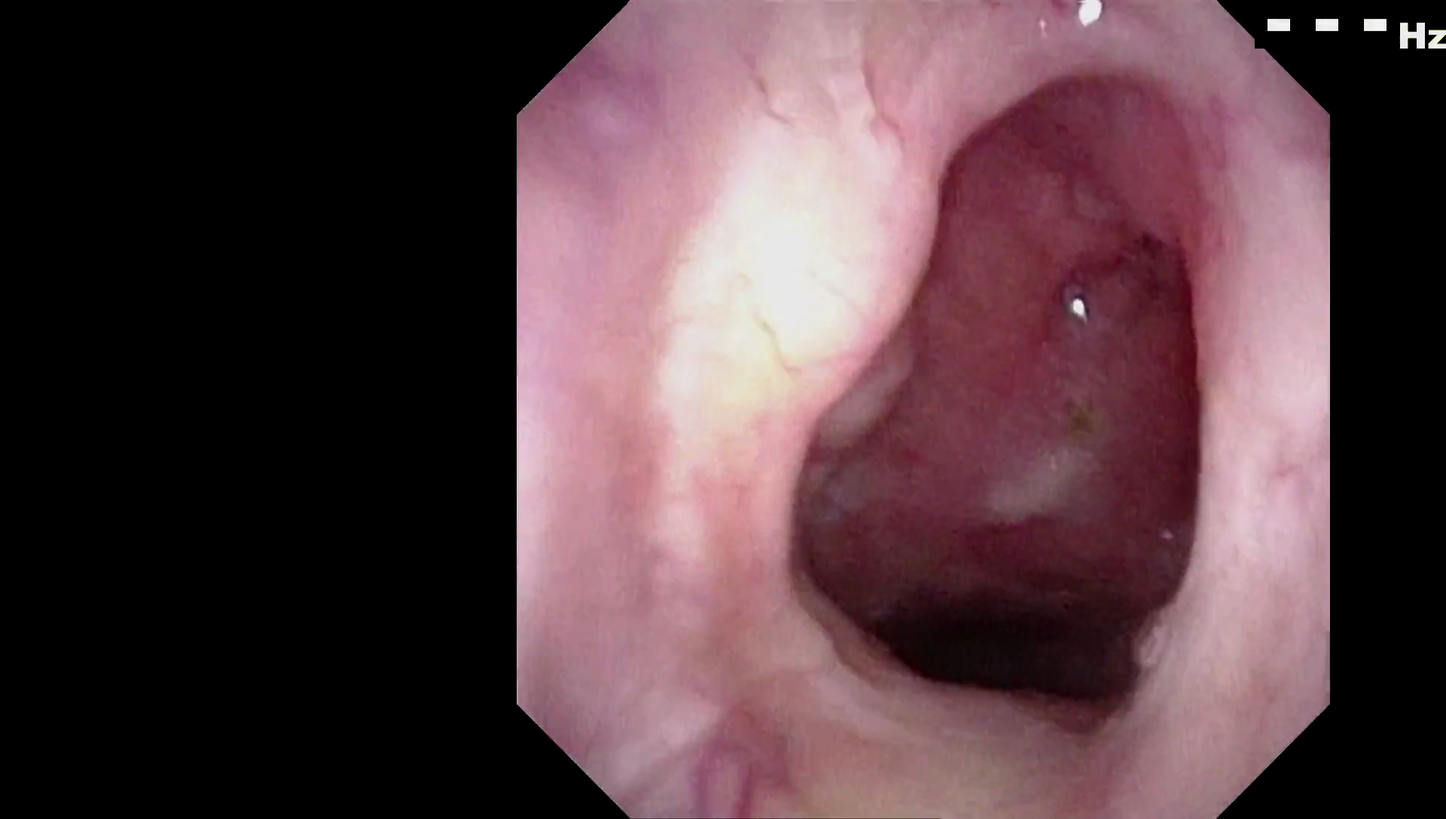close_wall: (575, 84, 1007, 556)
next: (828, 514, 1175, 729)
